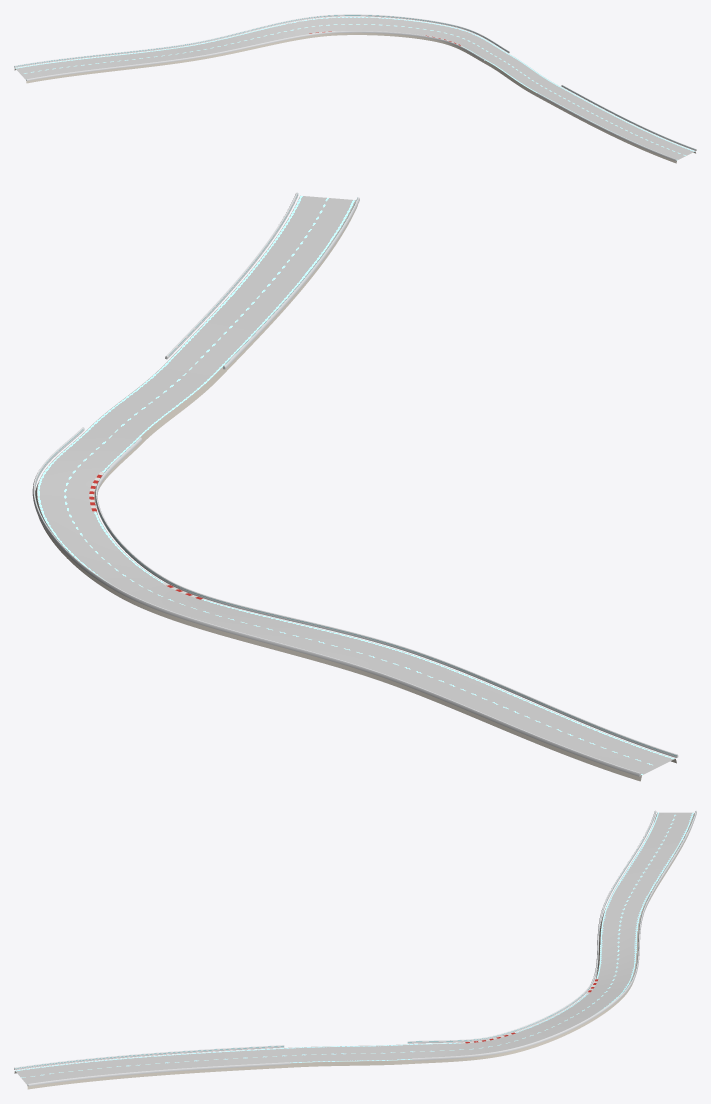
File: SM_FutureCity_Track_03.fbx
The picture shows the model from 3 angles, top to bottom: view 1: azimuth 30°, elevation 25°; view 2: azimuth 150°, elevation 25°; view 3: azimuth 270°, elevation 25°; orthographic projection. The views are drawn at different scales.
Visible parts, largest first — view 1: SM_FutureCity_Track_03; view 2: SM_FutureCity_Track_03; view 3: SM_FutureCity_Track_03.
Part boxes in pixels (x1,y1,x2,y2): SM_FutureCity_Track_03: (14,14,696,163); SM_FutureCity_Track_03: (32,192,678,781); SM_FutureCity_Track_03: (14,810,696,1089).
Size of the model in its own units: 26352 by 450 by 27666.
